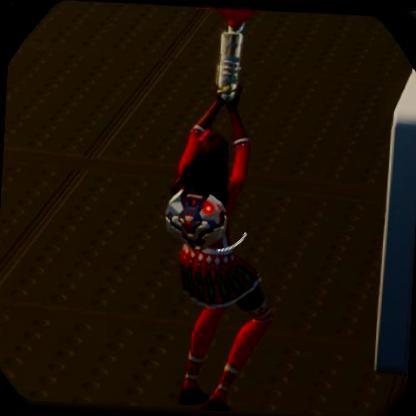person: (166, 140, 260, 414)
